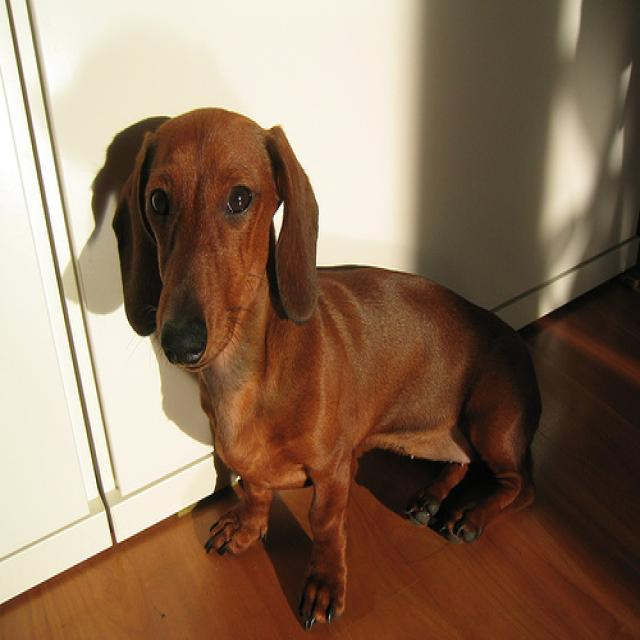dog: (112, 107, 544, 629)
